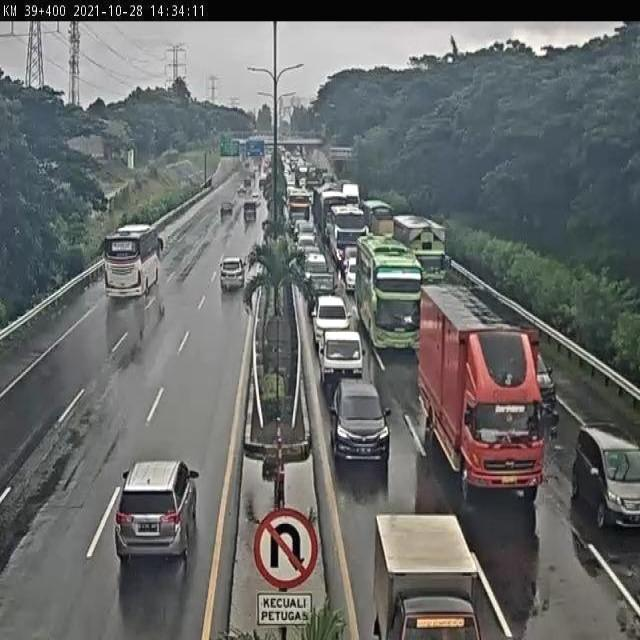Bus: (356, 232, 426, 352), (100, 223, 166, 299)
Car: (115, 460, 199, 565), (572, 422, 640, 528), (329, 376, 393, 465), (310, 294, 352, 344), (534, 350, 556, 407), (218, 257, 246, 291), (302, 252, 330, 275), (293, 234, 319, 257), (344, 256, 359, 291), (339, 245, 359, 271), (302, 246, 321, 260), (220, 202, 234, 217)
Truck: (414, 282, 562, 501), (370, 508, 484, 640), (392, 213, 449, 283), (316, 328, 366, 385), (325, 203, 370, 259), (313, 183, 346, 231), (368, 212, 398, 238), (360, 198, 393, 221), (342, 182, 363, 206)
